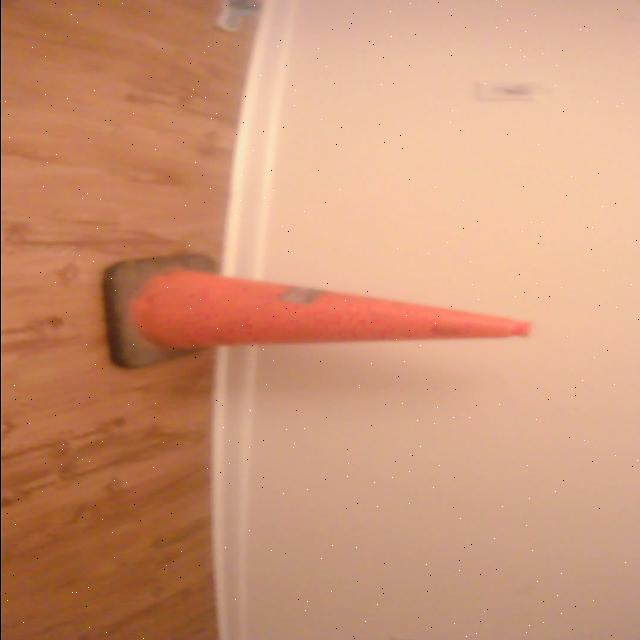traffic cone: (96, 252, 540, 371)
